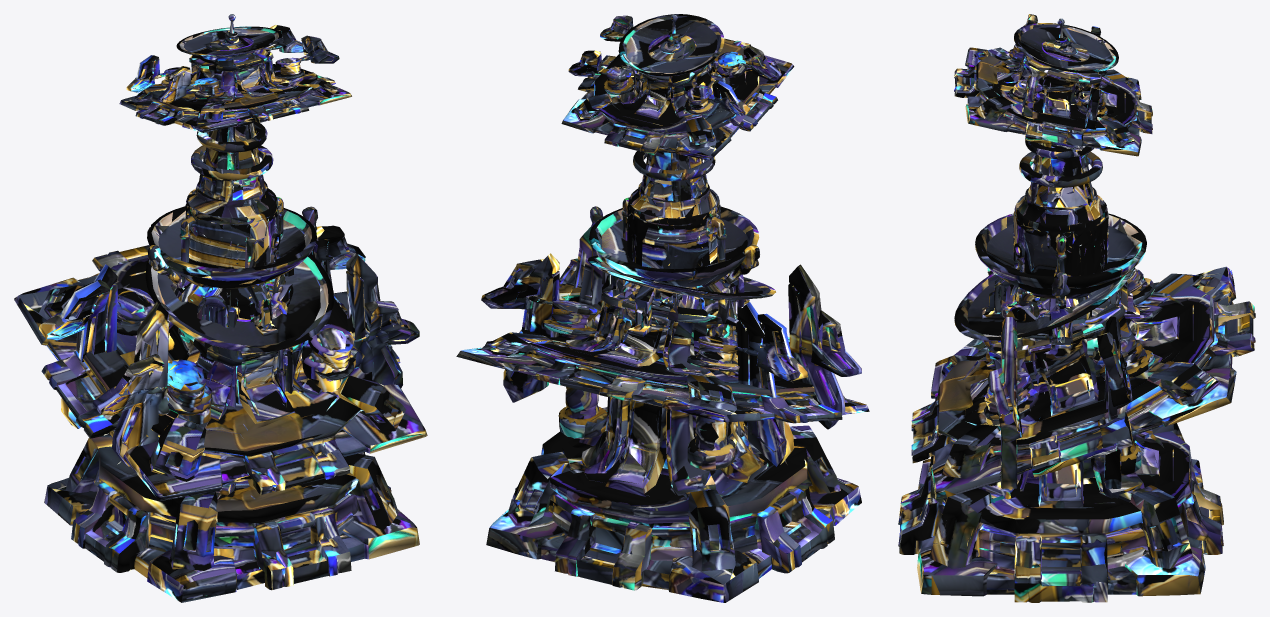
Rendered from magnetronspire_kitbash_tesla_relay_v01_prepared.fbx.
The picture shows the model from 3 angles, left to right: view 1: azimuth 30°, elevation 25°; view 2: azimuth 150°, elevation 25°; view 3: azimuth 270°, elevation 25°; orthographic projection.
Parts seen in each view (by area): view 1: LTW_MagnetronSpire_Kitbash; view 2: LTW_MagnetronSpire_Kitbash; view 3: LTW_MagnetronSpire_Kitbash.
Part boxes in pixels (x1,y1,x2,y2): LTW_MagnetronSpire_Kitbash: (14,14,427,602); LTW_MagnetronSpire_Kitbash: (456,14,869,602); LTW_MagnetronSpire_Kitbash: (898,14,1255,602).
Bounding box in the file's own units: 135 × 205 × 129.
